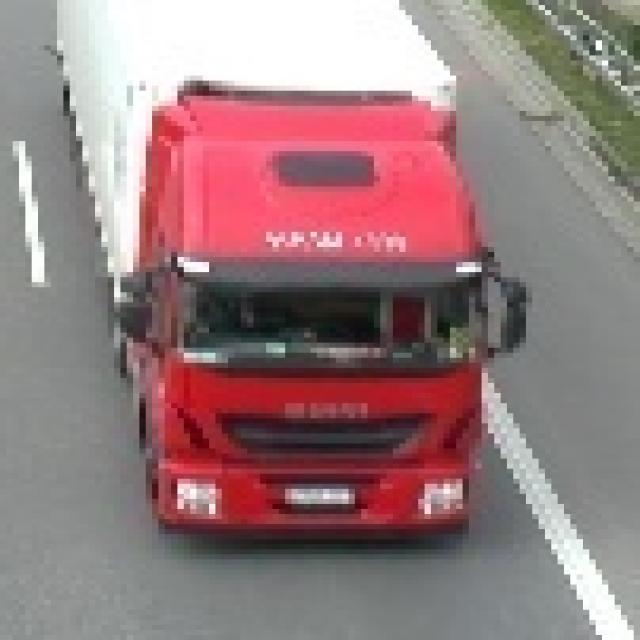TRUCK: (57, 0, 526, 534)
